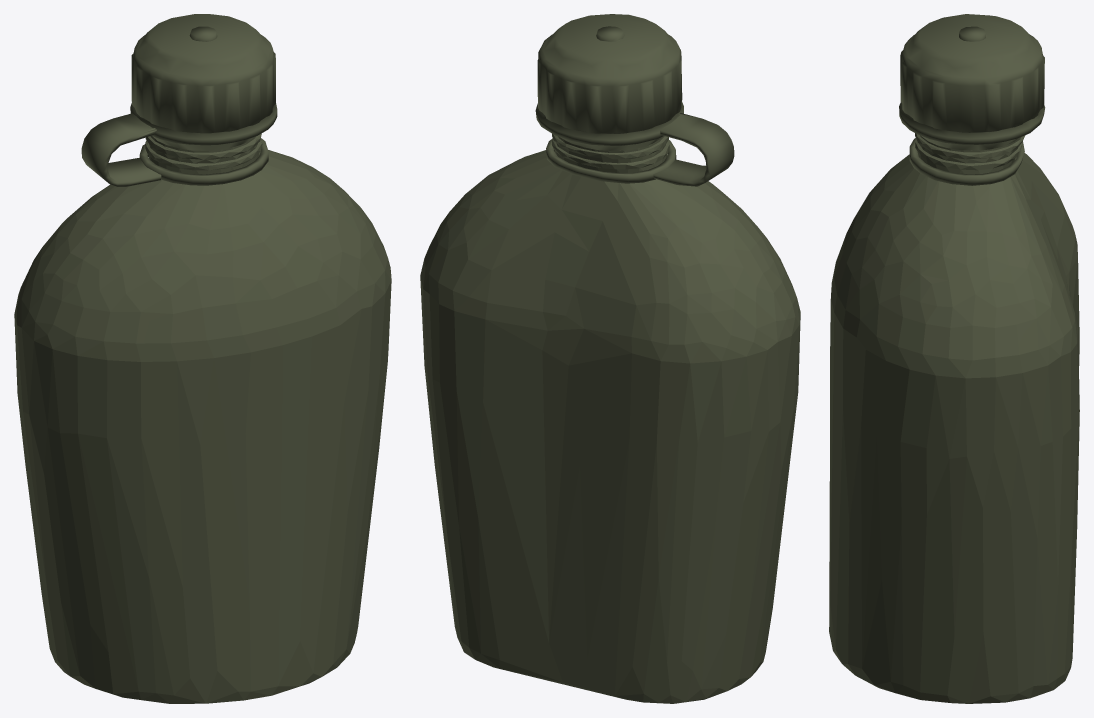
Rendered from WorldItem_Canteen.fbx.
3 renders of one model, left to right at view 1: azimuth 30°, elevation 25°; view 2: azimuth 150°, elevation 25°; view 3: azimuth 270°, elevation 25°, orthographic.
Visible parts, largest first — view 1: Canteen; view 2: Canteen; view 3: Canteen.
Part boxes in pixels (x1=…): Canteen: x1=14, y1=14, x2=391, y2=703; Canteen: x1=420, y1=14, x2=800, y2=703; Canteen: x1=829, y1=14, x2=1079, y2=703.
Bounding box in the file's own units: 0.0929 × 0.1555 × 0.0581.
